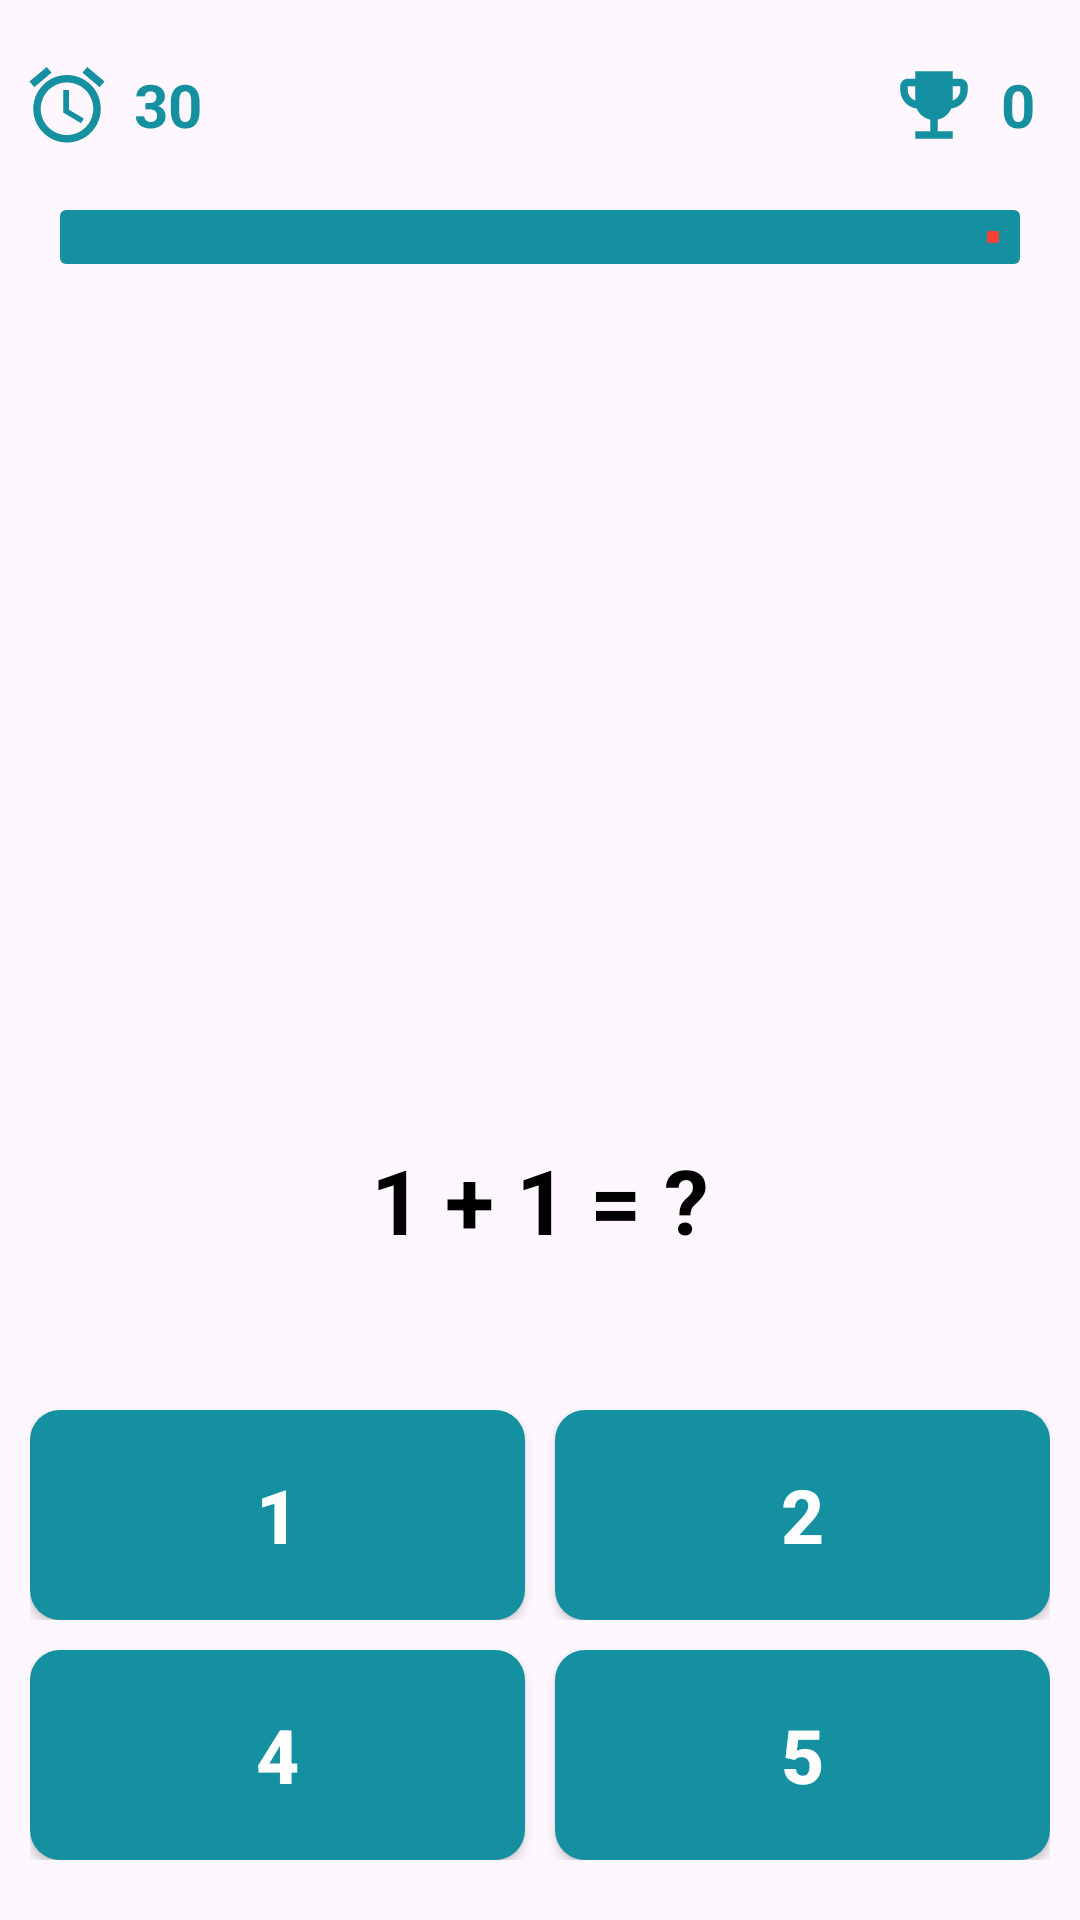

Locate icon controls on the screen. Image size 1080x1920, boxes as (left=x1, top=y1, right=x2, bottom=y2).
access alarm: (left=29, top=67, right=105, bottom=143)
emoji events: (left=900, top=71, right=968, bottom=139)
